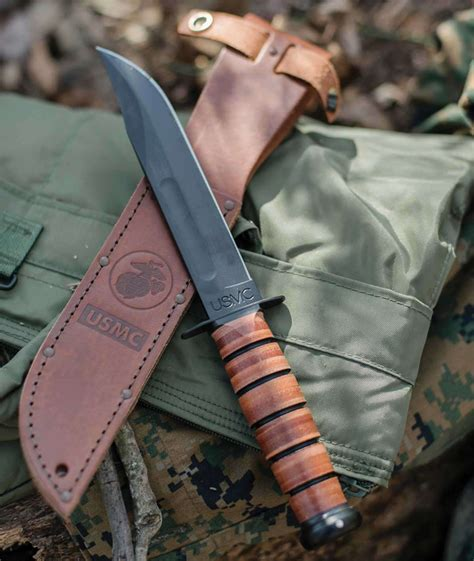knife: (88, 43, 364, 549)
